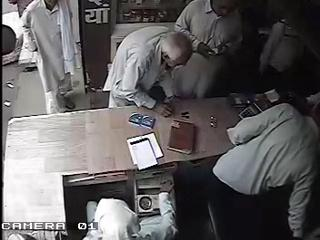Normal: (211, 94, 320, 239), (102, 25, 192, 118), (11, 0, 78, 115), (172, 0, 246, 100)
